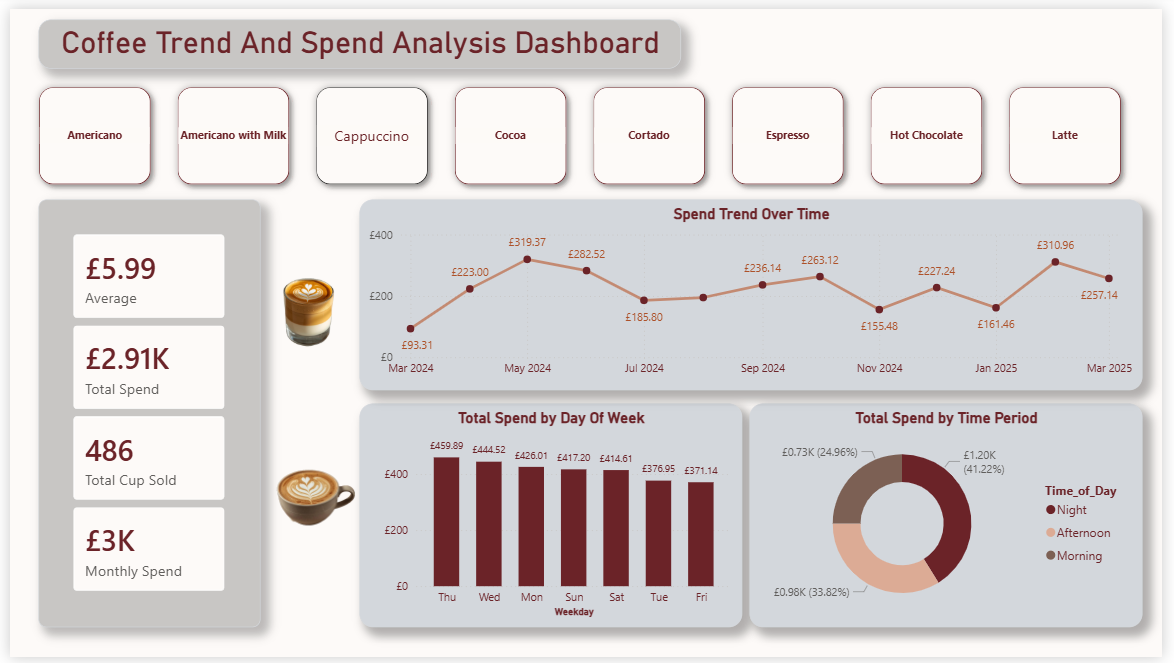

The dashboard page shown, as its layout file describes it:
{"tool":"powerbi","page":{"name":"Page 1","canvas":[1280,720],"ordinal":0},"visuals":[{"type":"columnChart","title":"Total Spend by Day Of Week","fields":{"Category":["coffee_data.Weekday"],"Y":["Sum(coffee_data.money(pound))"]},"box":[388.3,438.3,425,248.3],"z":0},{"type":"advancedSlicerVisual","fields":{"Values":["coffee_data.coffee_name"]},"box":[15,71.7,1243.3,140],"z":1000},{"type":"donutChart","title":"Total Spend by Time Period","fields":{"Category":["coffee_data.Time_of_Day"],"Y":["Sum(coffee_data.money(pound))"]},"box":[821.7,438.3,436.7,248.3],"z":2000},{"type":"lineChart","title":"Spend Trend Over Time","fields":{"Category":["coffee_data.Date.Variation.Date Hierarchy.Year","coffee_data.Date.Variation.Date Hierarchy.Month"],"Y":["Sum(coffee_data.money(pound))"]},"box":[388.3,211.7,870,211.7],"z":3000},{"type":"cardVisual","fields":{"Data":["coffee_data.Average","Sum(coffee_data.money(pound))","coffee_data.Total Cup Sold","Sum(coffee_data.Monthsort)"]},"box":[31.7,211.7,246.7,475],"z":4000},{"type":"image","box":[260,450,190,180],"z":5000},{"type":"image","box":[260,285,141.7,101.7],"z":6000},{"type":"textbox","title":"Coffee Trend And Spend Analysis Dashboard","box":[31.3,10.9,714.3,54.7],"z":7000}]}

Visuals, with their boxes in screenshot pixels (x1, y1, x2, y2), scaled from the page's 1280x720 canvas onto the 1174x663 screenshot:
"Total Spend by Day Of Week" columnChart: select_region(356, 404, 746, 632)
advancedSlicerVisual - coffee_data.coffee_name: select_region(14, 66, 1154, 195)
"Total Spend by Time Period" donutChart: select_region(754, 404, 1154, 632)
"Spend Trend Over Time" lineChart: select_region(356, 195, 1154, 390)
cardVisual - coffee_data.Average x Sum(coffee_data.money(pound)): select_region(29, 195, 255, 632)
image: select_region(238, 414, 413, 580)
image: select_region(238, 262, 368, 356)
"Coffee Trend And Spend Analysis Dashboard" textbox: select_region(29, 10, 684, 60)
